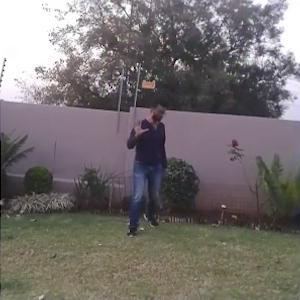follow_hand: (130, 113, 150, 139)
